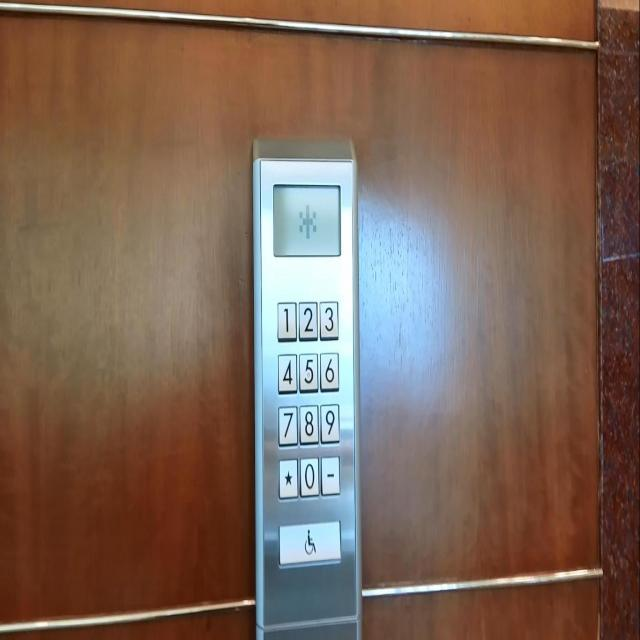-: (319, 454, 341, 498)
0: (298, 454, 320, 498)
1: (276, 299, 297, 343)
2: (297, 299, 318, 343)
3: (318, 298, 339, 342)
4: (318, 349, 340, 394)
5: (297, 351, 318, 396)
6: (276, 351, 297, 396)
7: (277, 402, 298, 448)
8: (297, 402, 319, 448)
9: (319, 400, 340, 445)
CH: (276, 517, 342, 570)
led: (271, 181, 342, 258)
s: (276, 456, 298, 501)
